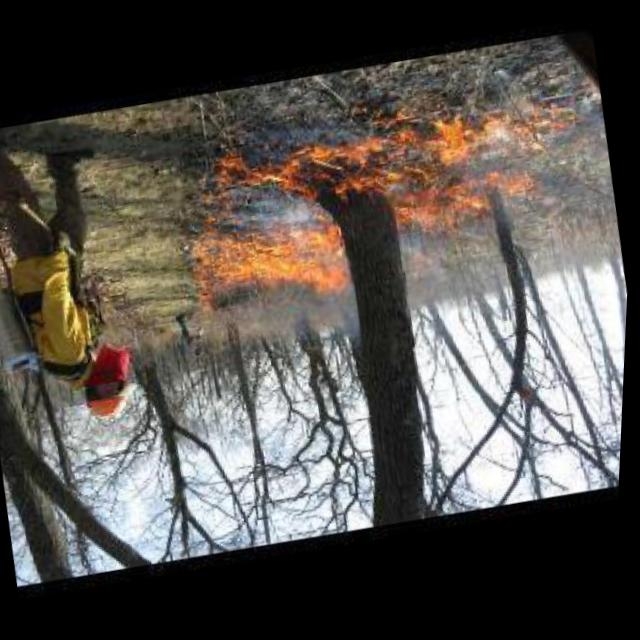Fire: (178, 98, 558, 317)
